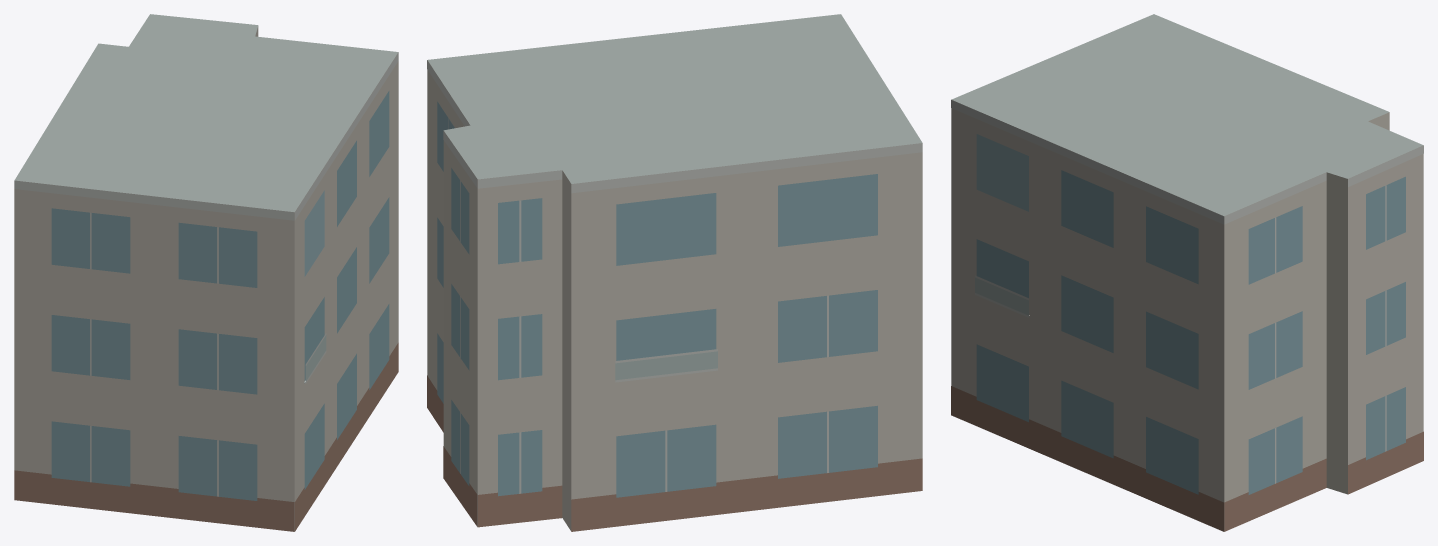
File: survey-upis-32719230.glb
3 views of the same model, side by side, from view 1: azimuth 30°, elevation 25°; view 2: azimuth 150°, elevation 25°; view 3: azimuth 270°, elevation 25° (orthographic). The views are drawn at different scales.
Visible parts, largest first — view 1: survey-upis-32719230.tmp; view 2: survey-upis-32719230.tmp; view 3: survey-upis-32719230.tmp.
Part boxes in pixels (<box>): survey-upis-32719230.tmp: <box>14,14,398,531</box>; survey-upis-32719230.tmp: <box>427,14,922,531</box>; survey-upis-32719230.tmp: <box>951,14,1423,531</box>.
Size of the model in its own units: 12.58 by 9.15 by 12.42.
